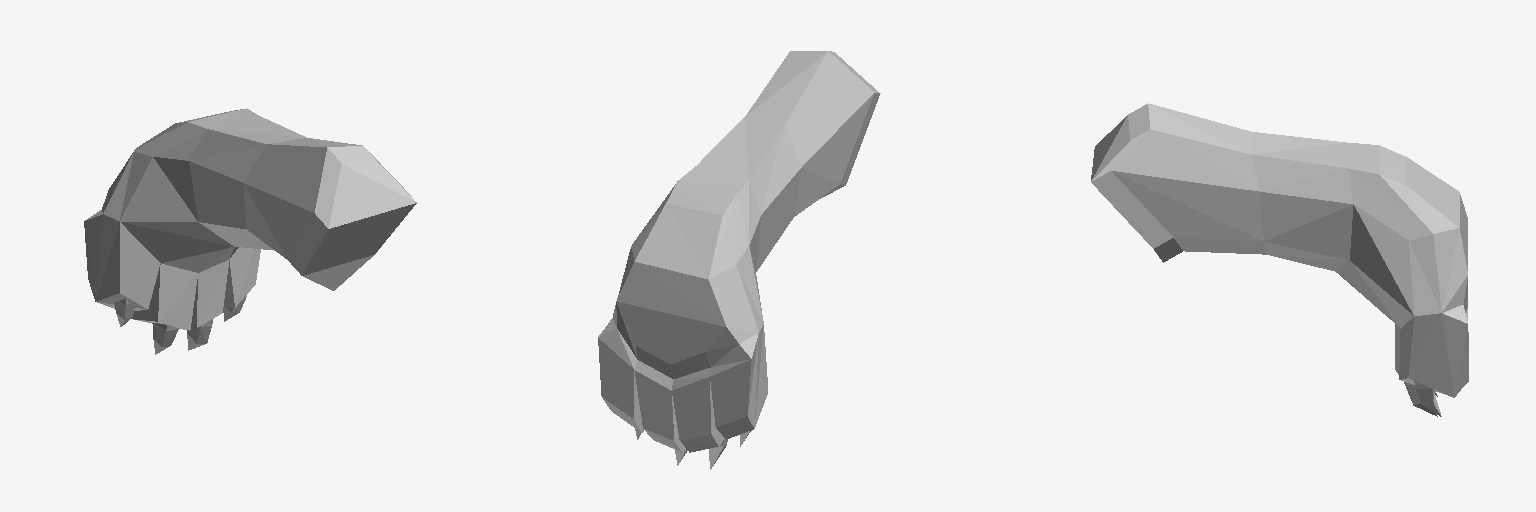
The model's file is patte_ar_d_3.obj.
3 renders of one model, left to right at view 1: azimuth 30°, elevation 25°; view 2: azimuth 150°, elevation 25°; view 3: azimuth 270°, elevation 25°, orthographic.
Visible parts, largest first — view 1: Wolf.012_Wolf.021; view 2: Wolf.012_Wolf.021; view 3: Wolf.012_Wolf.021.
Boxes of the visible parts, <box> form: Wolf.012_Wolf.021: <box>84,108,416,354</box>; Wolf.012_Wolf.021: <box>598,51,880,469</box>; Wolf.012_Wolf.021: <box>1091,103,1468,416</box>.
Size of the model in its own units: 8.54 by 16.32 by 18.